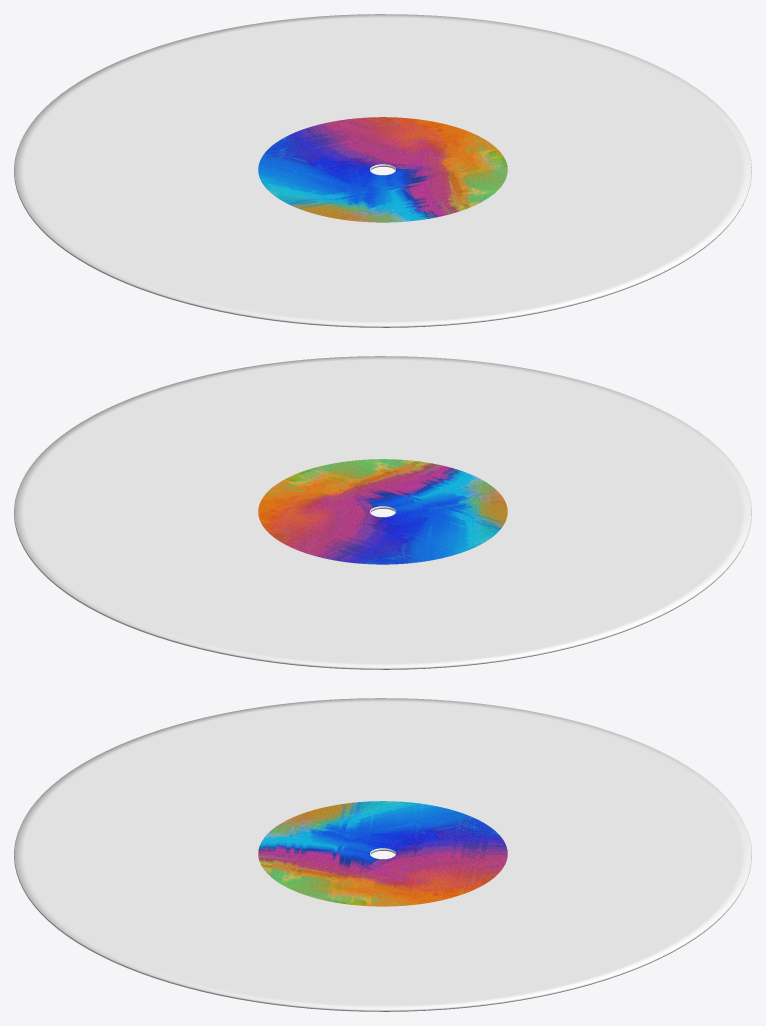
Rendered from Vinyl.glb.
The picture shows the model from 3 angles, top to bottom: view 1: azimuth 30°, elevation 25°; view 2: azimuth 150°, elevation 25°; view 3: azimuth 270°, elevation 25°; orthographic projection.
Visible parts, largest first — view 1: Vinyl; view 2: Vinyl; view 3: Vinyl.
Boxes of the visible parts, x1,y1,x2,y2 form: Vinyl: (14, 14, 751, 327); Vinyl: (14, 356, 751, 669); Vinyl: (14, 698, 751, 1011).
Bounding box in the file's own units: 2.84 × 0.0097 × 2.84.
5 materials, 1 textured.
